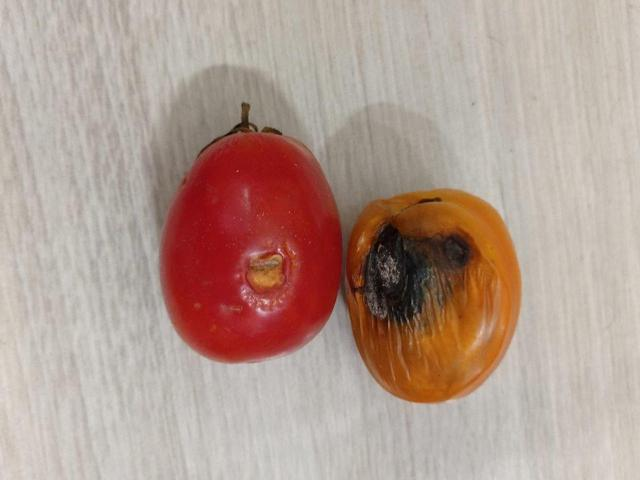defect: (161, 117, 345, 367), (339, 186, 523, 403)
